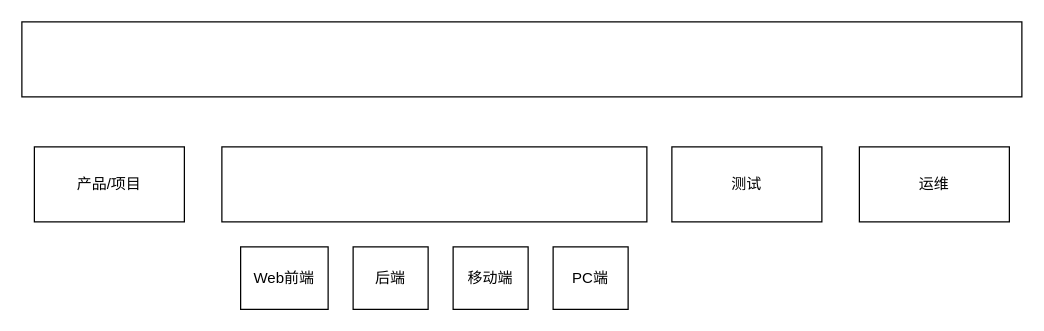
Image size: 1044x331. Some labels were removed from this diagram. Each missing label, with the centre of its shape:
"产品研发部(技术部)" goes at [521,59].
"开发" goes at [434,184].
